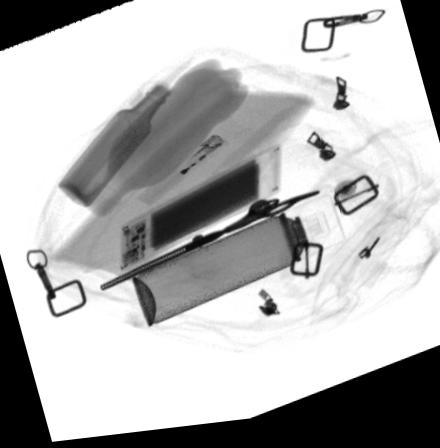Lighter: (134, 137, 231, 212)
Powerbank: (114, 150, 284, 278)
Scissors: (99, 202, 320, 295)
Sprayer: (131, 202, 345, 332)
